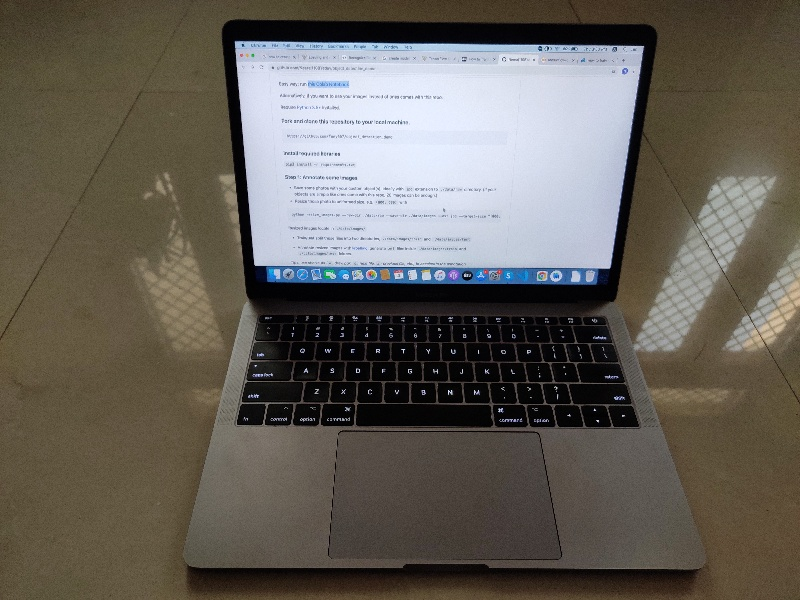laptop: (172, 12, 725, 584)
